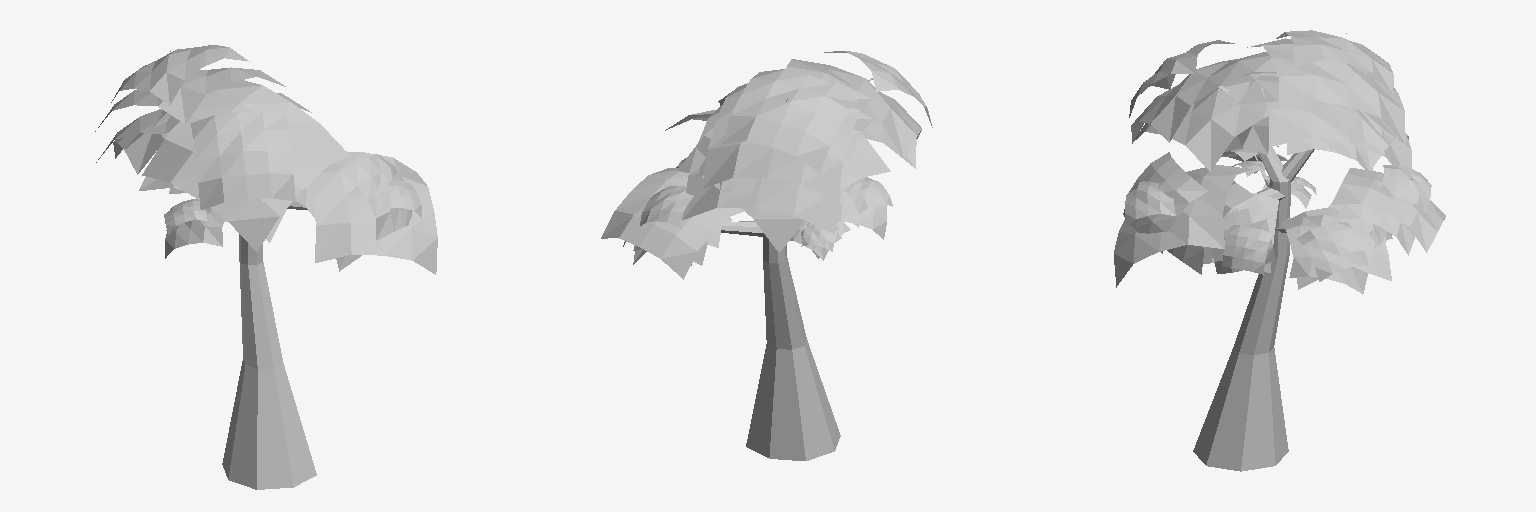
File: game_tree1.obj
The picture shows the model from 3 angles: view 1: azimuth 30°, elevation 25°; view 2: azimuth 150°, elevation 25°; view 3: azimuth 270°, elevation 25°; orthographic projection.
Parts seen in each view (by area): view 1: Plane; view 2: Plane; view 3: Plane.
Boxes of the visible parts, <box> form: Plane: <box>95,45,437,489</box>; Plane: <box>601,51,932,460</box>; Plane: <box>1114,30,1445,471</box>.
Size of the model in its own units: 6.42 by 9.13 by 6.95.